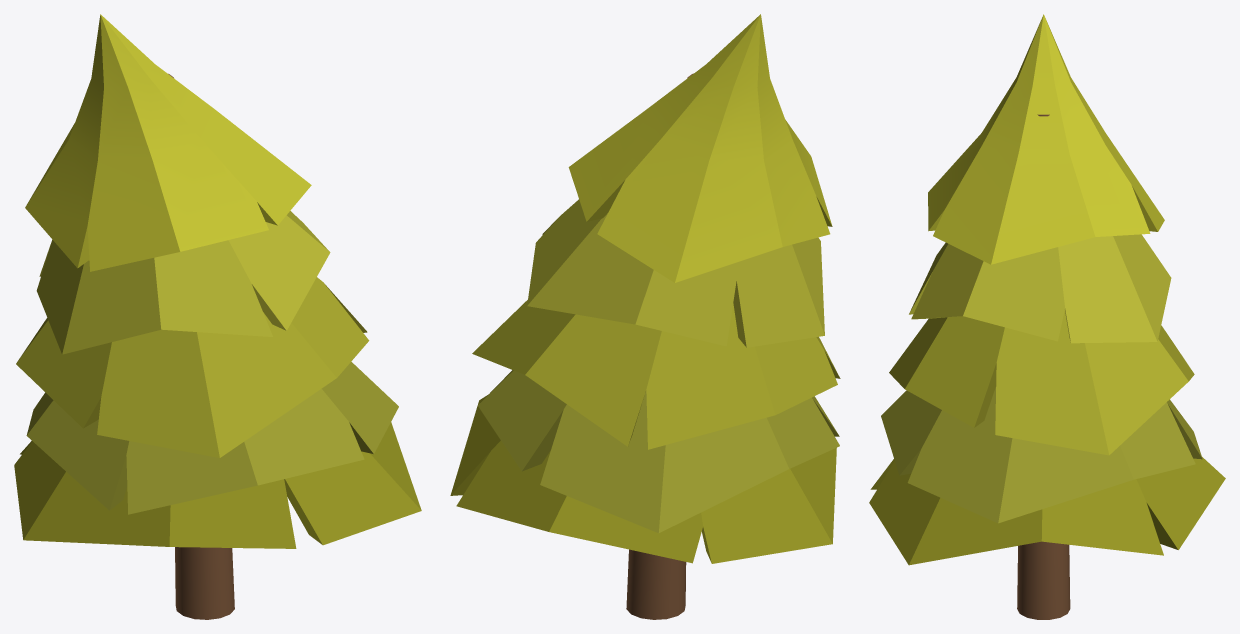
Rendered from Spruce_Yellow_Thick_2.fbx.
3 renders of one model, left to right at view 1: azimuth 30°, elevation 25°; view 2: azimuth 150°, elevation 25°; view 3: azimuth 270°, elevation 25°, orthographic. The views are drawn at different scales.
Visible parts, largest first — view 1: Cylinder.381, Cylinder.380, Cylinder.377, Cylinder.379, Cylinder.378, Cylinder.376; view 2: Cylinder.381, Cylinder.380, Cylinder.378, Cylinder.379, Cylinder.377, Cylinder.376; view 3: Cylinder.381, Cylinder.380, Cylinder.378, Cylinder.379, Cylinder.377, Cylinder.376.
Boxes of the visible parts, box(x1,y1,x2,y2) form: Cylinder.381: box(25, 14, 311, 271); Cylinder.380: box(16, 277, 369, 457); Cylinder.377: box(14, 422, 421, 548); Cylinder.379: box(36, 211, 330, 354); Cylinder.378: box(26, 361, 398, 514); Cylinder.376: box(168, 73, 234, 619); Cylinder.381: box(568, 14, 832, 282); Cylinder.380: box(472, 300, 840, 449); Cylinder.378: box(478, 370, 839, 533); Cylinder.379: box(527, 199, 824, 347); Cylinder.377: box(450, 394, 836, 563); Cylinder.376: box(626, 73, 693, 619); Cylinder.381: box(928, 14, 1164, 264); Cylinder.380: box(889, 310, 1194, 455); Cylinder.378: box(881, 386, 1202, 523); Cylinder.379: box(909, 234, 1171, 343); Cylinder.377: box(869, 457, 1225, 565); Cylinder.376: box(1017, 114, 1070, 619).
Bounding box in the file's own units: 343 × 568 × 334.
